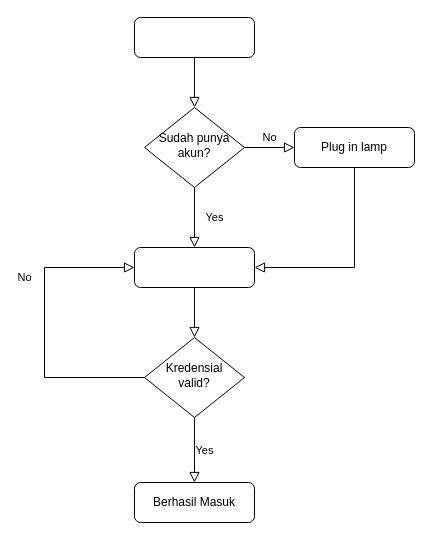
Image size: 432x540. Some labels were removed from this diagram. The shapes that lost their labels are listed below. From the top down, each one's centre as x and y in pixels, then its label:
At (x=194, y=37): "Pengguna masuk aplikasi".
At (x=194, y=267): "Login".
